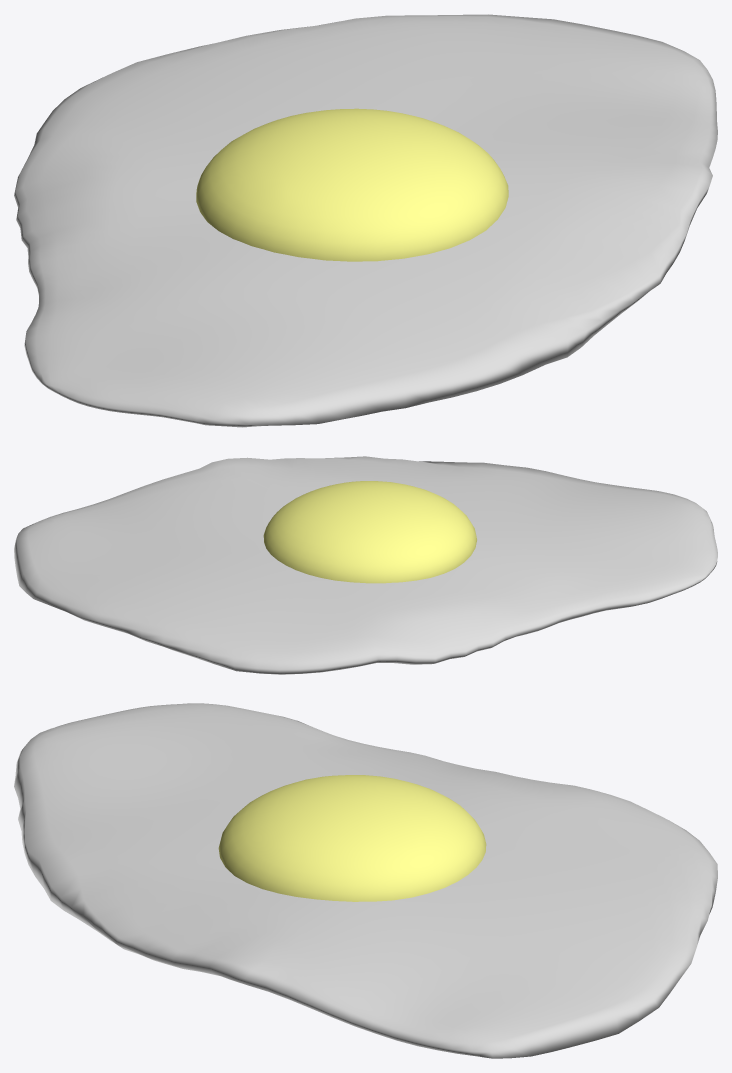
File: huevoestrellado.fbx
3 renders of one model, top to bottom at view 1: azimuth 30°, elevation 25°; view 2: azimuth 150°, elevation 25°; view 3: azimuth 270°, elevation 25°, orthographic. The views are drawn at different scales.
Parts seen in each view (by area): view 1: cooked_egg, Egg_yolk; view 2: cooked_egg, Egg_yolk; view 3: cooked_egg, Egg_yolk.
Boxes of the visible parts, <box> form: cooked_egg: <box>14,14,717,427</box>; Egg_yolk: <box>196,108,508,261</box>; cooked_egg: <box>14,456,717,674</box>; Egg_yolk: <box>263,481,476,583</box>; cooked_egg: <box>14,703,717,1058</box>; Egg_yolk: <box>218,775,486,901</box>.
Bounding box in the file's own units: 12.91 × 1.55 × 11.1.
